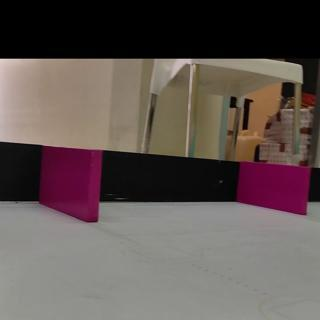xparking: (45, 149, 100, 221), (244, 166, 307, 215)
